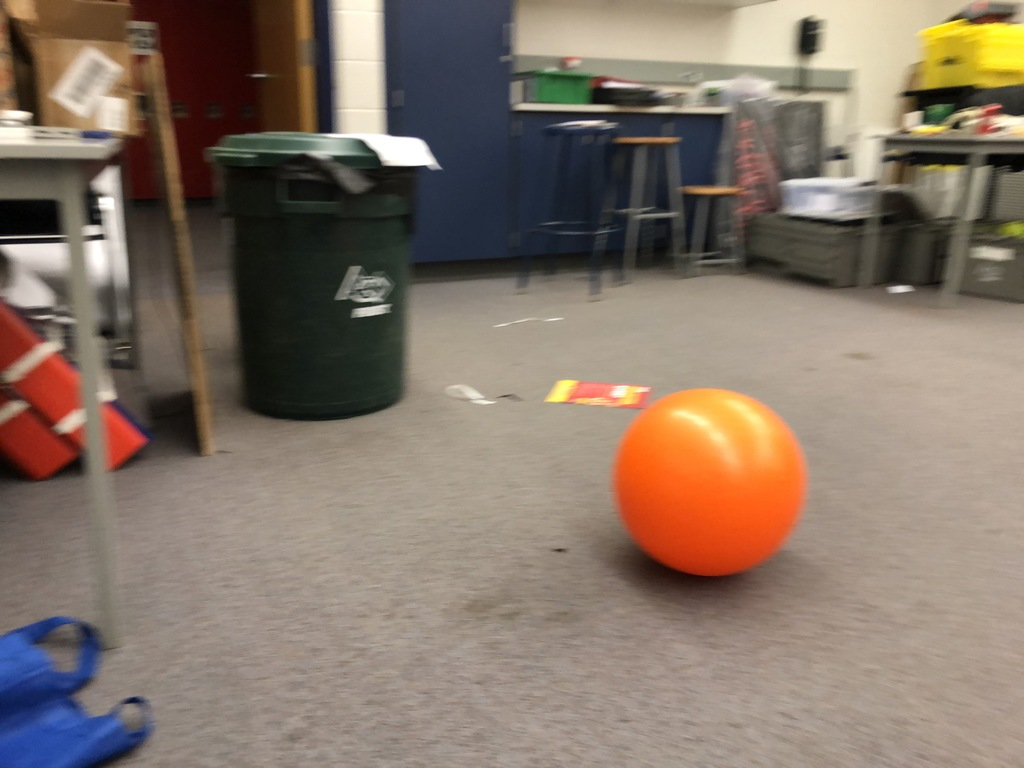cargo: (613, 381, 816, 594)
